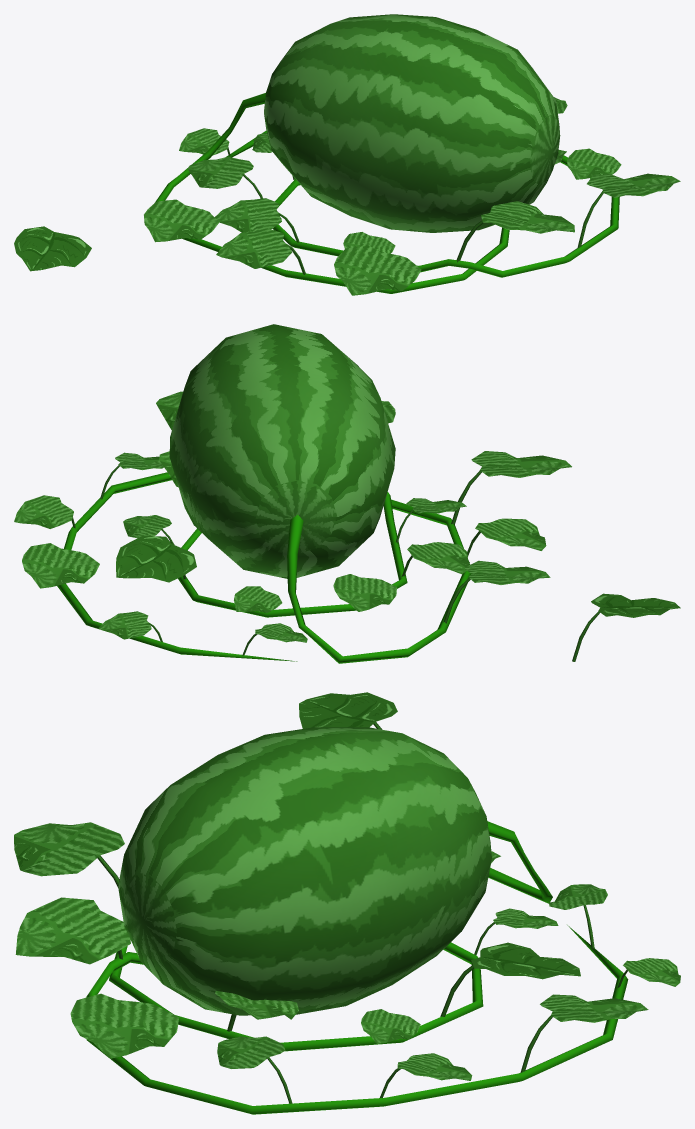
Rendered from Watermelon Stage 3.fbx.
3 views of the same model, one above another, from view 1: azimuth 30°, elevation 25°; view 2: azimuth 150°, elevation 25°; view 3: azimuth 270°, elevation 25° (orthographic). The views are drawn at different scales.
Parts seen in each view (by area): view 1: Watermelon_Full_Grown, Watermelon_Vine_Full_Grown, polySurface86, Watermelon_Leaf_Main_Mesh, polySurface89, polySurface88, polySurface90, polySurface98, polySurface96, polySurface95, polySurface99, polySurface103 (+1 smaller); view 2: Watermelon_Full_Grown, Watermelon_Vine_Full_Grown, polySurface93, polySurface101, polySurface86, polySurface95, Watermelon_Leaf_Main_Mesh, polySurface88, polySurface89, polySurface100, polySurface96, polySurface102 (+6 smaller); view 3: Watermelon_Full_Grown, Watermelon_Vine_Full_Grown, polySurface90, polySurface98, polySurface86, Watermelon_Leaf_Main_Mesh, polySurface93, polySurface101, polySurface99, polySurface92, polySurface100, polySurface91 (+3 smaller).
Part boxes in pixels (x1=…): Watermelon_Full_Grown: x1=264, y1=14, x2=560, y2=232; Watermelon_Vine_Full_Grown: x1=155, y1=93, x2=619, y2=293; polySurface86: x1=334, y1=245, x2=421, y2=295; Watermelon_Leaf_Main_Mesh: x1=14, y1=226, x2=91, y2=271; polySurface89: x1=144, y1=199, x2=219, y2=242; polySurface88: x1=216, y1=228, x2=305, y2=274; polySurface90: x1=456, y1=201, x2=574, y2=262; polySurface98: x1=577, y1=173, x2=680, y2=248; polySurface96: x1=214, y1=198, x2=299, y2=242; polySurface95: x1=187, y1=156, x2=262, y2=198; polySurface99: x1=567, y1=148, x2=621, y2=179; polySurface103: x1=179, y1=128, x2=230, y2=155; Watermelon_Full_Grown: x1=169, y1=324, x2=395, y2=578; Watermelon_Vine_Full_Grown: x1=57, y1=472, x2=470, y2=663; polySurface93: x1=116, y1=535, x2=196, y2=582; polySurface101: x1=22, y1=543, x2=99, y2=588; polySurface86: x1=451, y1=451, x2=571, y2=525; polySurface95: x1=333, y1=574, x2=396, y2=611; Watermelon_Leaf_Main_Mesh: x1=572, y1=593, x2=680, y2=661; polySurface88: x1=467, y1=518, x2=546, y2=556; polySurface89: x1=443, y1=560, x2=550, y2=623; polySurface100: x1=14, y1=495, x2=75, y2=528; polySurface96: x1=401, y1=542, x2=469, y2=576; polySurface102: x1=98, y1=611, x2=162, y2=641; Watermelon_Full_Grown: x1=118, y1=727, x2=491, y2=1015; Watermelon_Vine_Full_Grown: x1=86, y1=821, x2=628, y2=1114; polySurface90: x1=15, y1=897, x2=130, y2=964; polySurface98: x1=70, y1=993, x2=179, y2=1058; polySurface86: x1=14, y1=822, x2=124, y2=887; Watermelon_Leaf_Main_Mesh: x1=299, y1=692, x2=397, y2=729; polySurface93: x1=440, y1=942, x2=580, y2=1016; polySurface101: x1=520, y1=994, x2=648, y2=1072; polySurface99: x1=217, y1=1036, x2=292, y2=1103; polySurface92: x1=361, y1=1009, x2=420, y2=1043; polySurface100: x1=380, y1=1053, x2=472, y2=1097; polySurface91: x1=215, y1=991, x2=298, y2=1038.
Bounding box in the file's own units: 1.44 × 0.4673 × 1.1.
2 materials, 1 textured.
